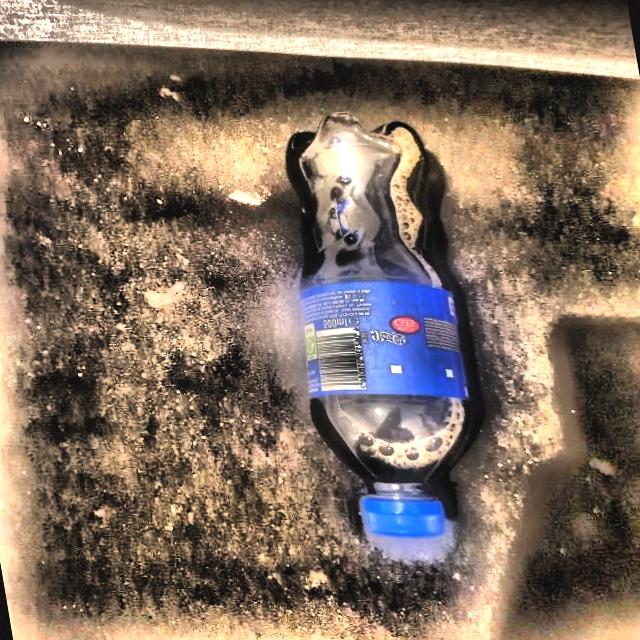pepsi-bottle: (282, 116, 472, 539)
